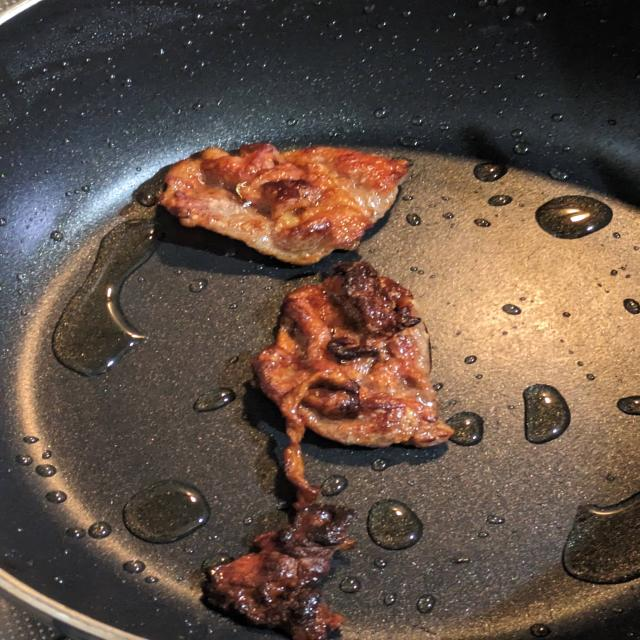overcooked pork: (194, 251, 465, 640), (146, 141, 430, 275)
